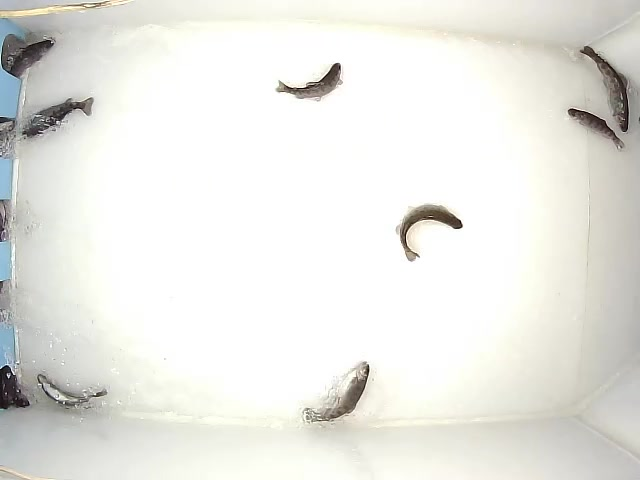fish: (578, 45, 630, 135), (301, 359, 370, 424), (395, 201, 463, 263), (21, 95, 95, 140), (275, 62, 343, 102), (567, 107, 625, 151), (36, 373, 108, 408)
